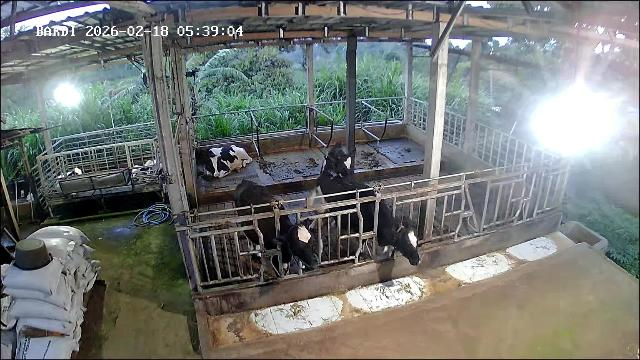mounting: (303, 143, 358, 228)
